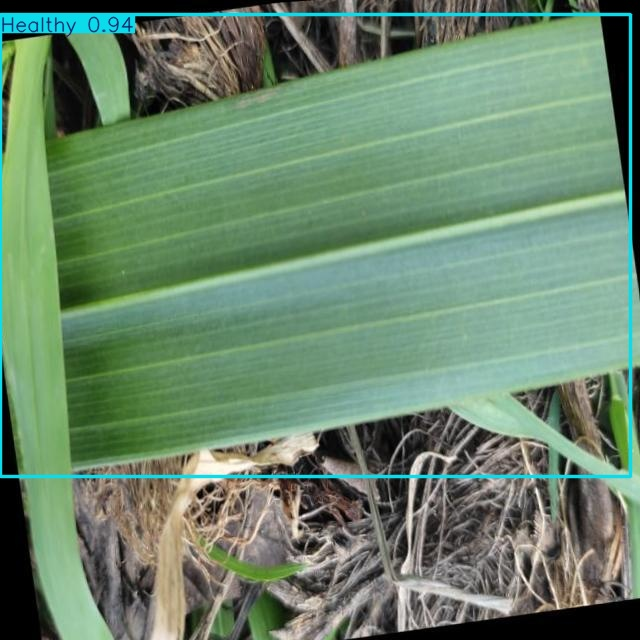Healthy: (0, 14, 630, 477)
